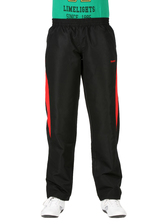clothoes: (43, 17, 125, 201)
